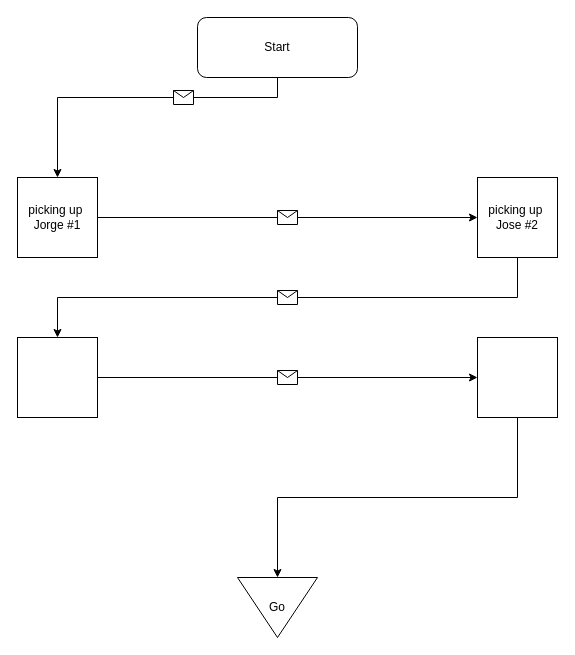
The diagram is 575 pixels wide and 655 high, and some of its shapes have lost their labels. Each missing label, with the centre of its shape:
"picking up Bernardo #4" goes at point 517,377.
"picking up Domingo #3" goes at point 57,377.
